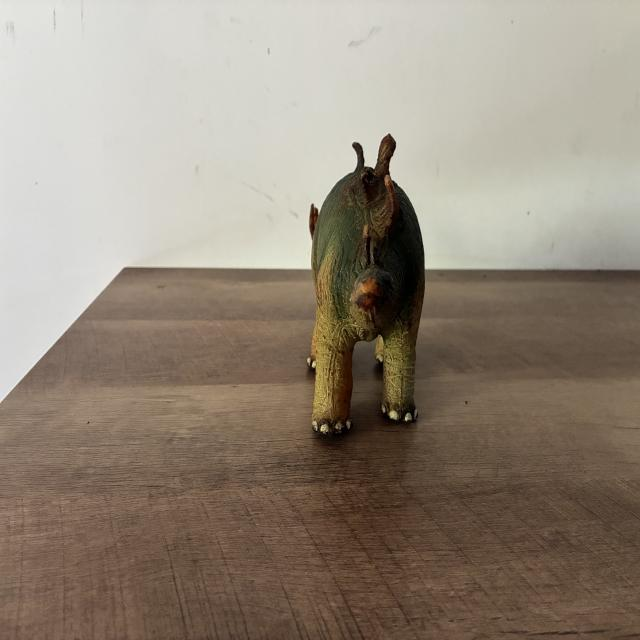dinosaur: (307, 134, 425, 435)
